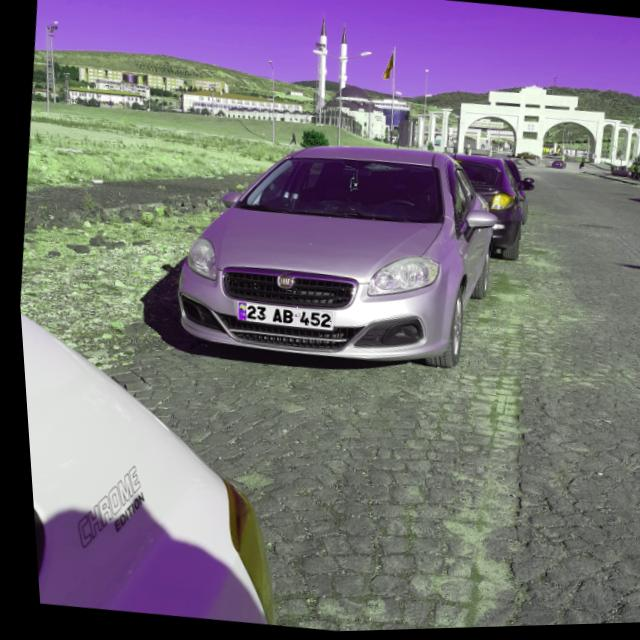license_plate: (232, 300, 329, 332)
